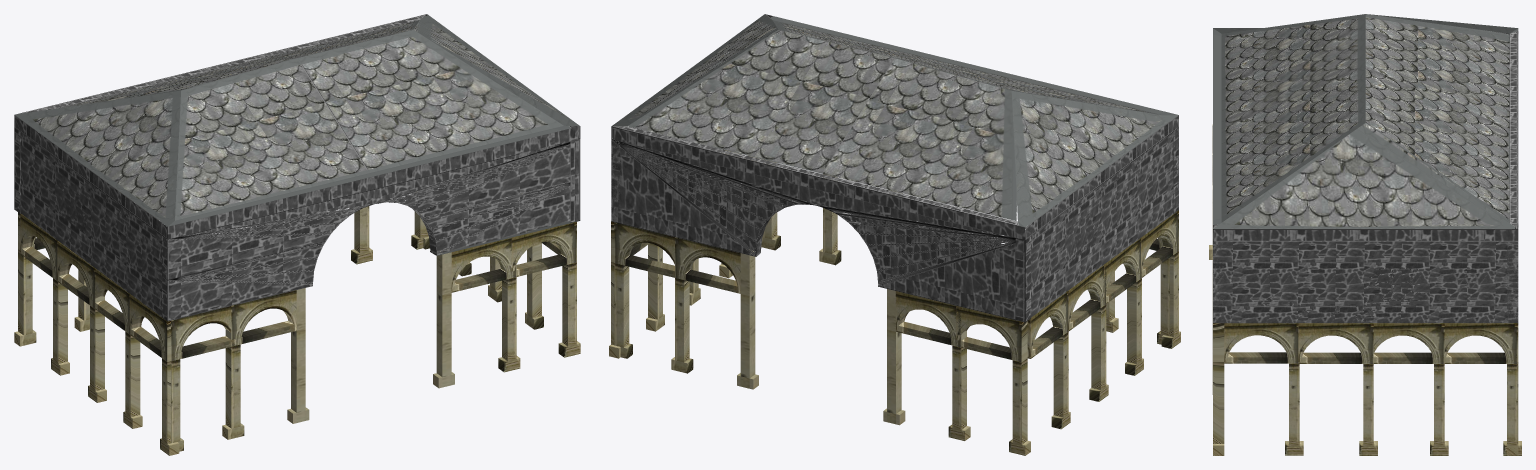
File: Hittites_university.fbx
3 renders of one model, left to right at view 1: azimuth 30°, elevation 25°; view 2: azimuth 150°, elevation 25°; view 3: azimuth 270°, elevation 25°, orthographic.
Visible parts, largest first — view 1: Plane_003, Cube_027, Cube_004, Cube_005, Cube_023, Cube_026, Cube_022, Cube_024, Cube_025, Cube_007, Cube_008, Cube_021 (+2 smaller); view 2: Plane_003, Cube_021, Cube_018, Cube_020, Cube_019, Cube_022, Cube_023, Cube_024, Cube_025, Cube_006, Cube_029, Cube_001 (+3 smaller); view 3: Plane_003, Cube_000, Cube_003, Cube_001, Cube_002, Cube_004, Cube_019.
Part boxes in pixels (<box>): Plane_003: <box>14,14,580,321</box>; Cube_027: <box>222,290,296,439</box>; Cube_004: <box>511,222,580,357</box>; Cube_005: <box>451,237,520,372</box>; Cube_023: <box>57,241,106,402</box>; Cube_026: <box>162,304,236,453</box>; Cube_022: <box>20,213,69,375</box>; Cube_024: <box>95,268,142,428</box>; Cube_025: <box>129,294,179,455</box>; Cube_007: <box>433,251,454,388</box>; Cube_008: <box>287,288,309,423</box>; Cube_021: <box>14,212,44,346</box>; Plane_003: <box>611,14,1178,322</box>; Cube_021: <box>956,306,1030,455</box>; Cube_018: <box>671,237,740,373</box>; Cube_020: <box>895,291,970,440</box>; Cube_019: <box>614,222,674,358</box>; Cube_022: <box>1027,291,1070,429</box>; Cube_023: <box>1068,263,1108,401</box>; Cube_024: <box>1104,237,1143,375</box>; Cube_025: <box>1141,210,1180,348</box>; Cube_006: <box>737,249,758,389</box>; Cube_029: <box>883,289,905,425</box>; Cube_001: <box>646,243,664,331</box>; Plane_003: <box>1213,14,1518,323</box>; Cube_000: <box>1298,323,1377,455</box>; Cube_003: <box>1224,323,1303,455</box>; Cube_001: <box>1373,323,1448,455</box>; Cube_002: <box>1444,323,1521,455</box>; Cube_004: <box>1213,323,1224,455</box>; Cube_019: <box>1507,323,1518,455</box>.
Size of the model in its own units: 10.53 by 7.07 by 6.93.
2 materials, 2 textured.
